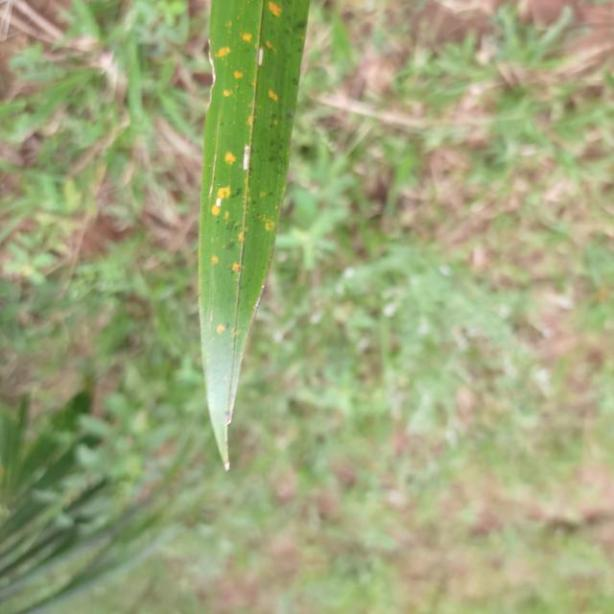Kalium: (197, 0, 313, 504)
